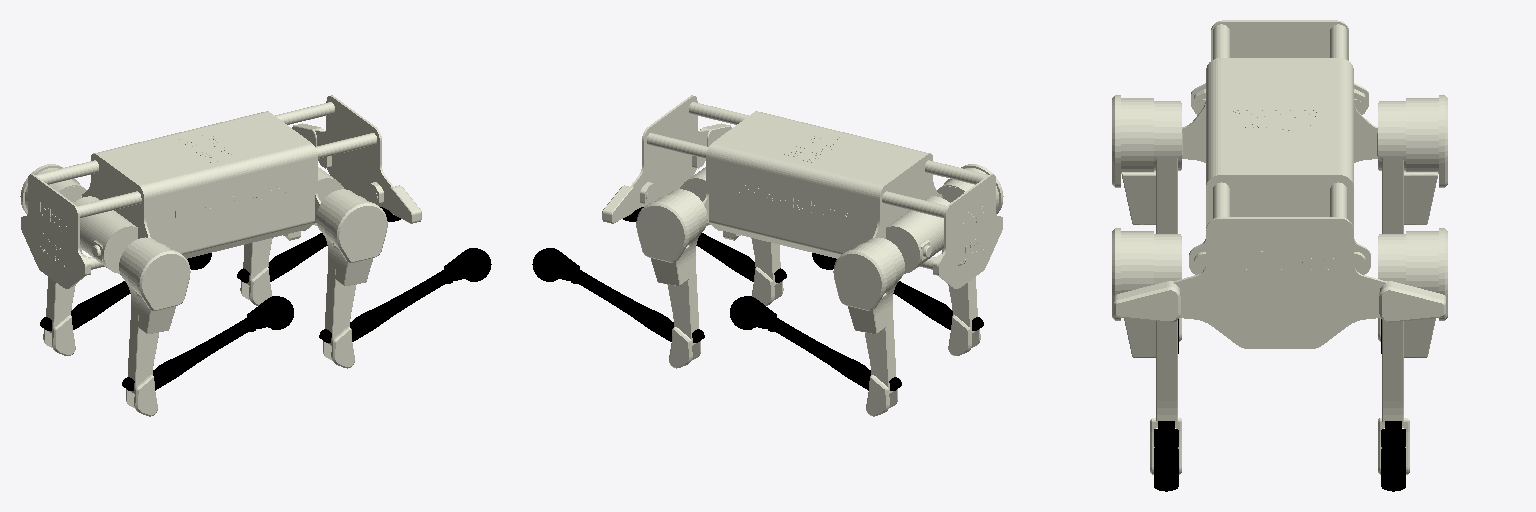
--- What the picture shows (computed from the rendered views, not written in the file) ---
The picture shows the robot from 3 angles, left to right: view 1: azimuth 30°, elevation 25°; view 2: azimuth 150°, elevation 25°; view 3: azimuth 270°, elevation 25°; orthographic projection.
Robot: a1_description — 19 links, 18 joints (8 revolute, 4 continuous, 5 fixed, 1 floating); root link world; default pose: all joints at 0 but 4 set to mid-range because 0 is outside their limits (FR_calf_joint = -1.81, FL_calf_joint = -1.81, RR_calf_joint = -1.81, RL_calf_joint = -1.81).
Visible links, largest first — view 1: trunk, FR_thigh, RR_thigh, RR_calf, FR_calf, RL_thigh, RR_hip, FL_thigh, RL_calf, FL_calf; view 2: trunk, FL_thigh, RL_thigh, RL_calf, FL_calf, RR_thigh, RL_hip, FR_thigh, RR_calf, FR_calf; view 3: trunk, RR_thigh, RL_thigh, FR_thigh, FL_thigh, FR_calf, FL_calf.
Link boxes in pixels (left/top/right/bottom): trunk: left=21, top=95, right=421, bottom=288; FR_thigh: left=316, top=189, right=387, bottom=368; RR_thigh: left=119, top=237, right=190, bottom=416; RR_calf: left=122, top=296, right=293, bottom=390; FR_calf: left=319, top=248, right=491, bottom=342; RL_thigh: left=20, top=164, right=86, bottom=355; RR_hip: left=80, top=210, right=137, bottom=273; FL_thigh: left=240, top=116, right=272, bottom=305; RL_calf: left=40, top=253, right=211, bottom=330; FL_calf: left=237, top=207, right=400, bottom=282; trunk: left=602, top=95, right=1002, bottom=288; FL_thigh: left=636, top=189, right=707, bottom=368; RL_thigh: left=833, top=237, right=904, bottom=416; RL_calf: left=730, top=296, right=901, bottom=390; FL_calf: left=532, top=248, right=704, bottom=342; RR_thigh: left=937, top=164, right=1003, bottom=355; RL_hip: left=886, top=210, right=943, bottom=273; FR_thigh: left=751, top=116, right=783, bottom=305; RR_calf: left=812, top=253, right=983, bottom=330; FR_calf: left=623, top=207, right=786, bottom=282; trunk: left=1114, top=20, right=1445, bottom=348; RR_thigh: left=1112, top=95, right=1181, bottom=341; RL_thigh: left=1378, top=95, right=1447, bottom=341; FR_thigh: left=1112, top=228, right=1181, bottom=474; FL_thigh: left=1378, top=228, right=1447, bottom=474; FR_calf: left=1154, top=421, right=1178, bottom=491; FL_calf: left=1381, top=421, right=1405, bottom=491.
Size in the robot's own frame: 0.7341 by 0.3891 by 0.3728 metres.
13 mesh visuals loaded from 5 distinct referenced files (5 binary STL).

robot.urdf — a1_description:
<?xml version="1.0" ?>
<!-- =================================================================================== -->
<!-- |    This document was autogenerated by xacro from robot.xacro                    | -->
<!-- |    EDITING THIS FILE BY HAND IS NOT RECOMMENDED                                 | -->
<!-- =================================================================================== -->
<robot name="a1_description" xmlns:xacro="http://www.ros.org/wiki/xacro">

  <mujoco>
        <compiler 
        meshdir="../meshes/" 
        balanceinertia="true" 
        discardvisual="false" />
        <option gravity='0 0 -9.8'/>
  </mujoco>

  <material name="black">
    <color rgba="0.0 0.0 0.0 1.0"/>
  </material>
  <material name="blue">
    <color rgba="0.0 0.0 0.8 1.0"/>
  </material>
  <material name="green">
    <color rgba="0.0 0.8 0.0 1.0"/>
  </material>
  <material name="grey">
    <color rgba="0.2 0.2 0.2 1.0"/>
  </material>
  <material name="silver">
    <color rgba="0.913725490196 0.913725490196 0.847058823529 1.0"/>
  </material>
  <material name="orange">
    <color rgba="1.0 0.423529411765 0.0392156862745 1.0"/>
  </material>
  <material name="brown">
    <color rgba="0.870588235294 0.811764705882 0.764705882353 1.0"/>
  </material>
  <material name="red">
    <color rgba="0.8 0.0 0.0 1.0"/>
  </material>
  <material name="white">
    <color rgba="1.0 1.0 1.0 1.0"/>
  </material>
  <!-- <xacro:include filename="$(find aliengo_gazebo)/launch/gazebo.xacro"/> -->
  <!-- Debug mode will hung up the robot, use "true" or "false" to switch it. -->
  <!-- <xacro:if value="$(arg DEBUG)">
        <link name="world"/>
        <joint name="base_static_joint" type="fixed">
            <origin rpy="0 0 0" xyz="0 0 0"/>
            <parent link="world"/>
            <child link="base"/>
        </joint>
    </xacro:if>  -->
<link name="world"/>
  <joint name="floating_base" type="floating">
    <origin rpy="0 0 0" xyz="0 0 0"/>
    <parent link="world"/>
    <child link="trunk"/>
  </joint>
  <link name="trunk">
    <visual>
      <origin rpy="0 0 0" xyz="0 0 0"/>
      <geometry>
        <mesh filename="../meshes/trunk.stl" scale="1 1 1"/>
      </geometry>
      <material name="silver"/>
    </visual>
    <collision>
      <origin rpy="0 0 0" xyz="0 0 0"/>
      <geometry>
        <box size="0.267 0.194 0.114"/>
      </geometry>
    </collision>
 <!-- <collision>
            <origin rpy="0 0 0" xyz="0 0 0"/>
            <geometry>
                <mesh filename="../meshes/trunk.stl" scale="1 1 1"/>
            </geometry>
        </collision> -->
    <inertial>
      <origin rpy="0 0 0" xyz="0.012731 0.002186 0.000515"/>
      <mass value="4.713"/>
      <inertia ixx="0.01683993" ixy="8.3902e-05" ixz="0.000597679" iyy="0.056579028" iyz="2.5134e-05" izz="0.064713601"/>
    </inertial>
  </link>
  <joint name="imu_joint" type="fixed">
    <parent link="trunk"/>
    <child link="imu_link"/>
    <origin rpy="0 0 0" xyz="0 0 0"/>
  </joint>
  <link name="imu_link">
    <inertial>
      <mass value="0.001"/>
      <origin rpy="0 0 0" xyz="0 0 0"/>
      <inertia ixx="0.0001" ixy="0" ixz="0" iyy="0.000001" iyz="0" izz="0.0001"/>
    </inertial>
    <visual>
      <origin rpy="0 0 0" xyz="0 0 0"/>
      <geometry>
        <box size="0.001 0.001 0.001"/>
      </geometry>
      <material name="red"/>
    </visual>
    <collision>
      <origin rpy="0 0 0" xyz="0 0 0"/>
      <geometry>
        <box size=".001 .001 .001"/>
      </geometry>
    </collision>
  </link>
  <joint name="FR_hip_joint" type="revolute">
    <origin rpy="0 0 0" xyz="0.183 -0.047 0"/>
    <parent link="trunk"/>
    <child link="FR_hip"/>
    <axis xyz="1 0 0"/>
    <dynamics damping="0" friction="0"/>
    <limit effort="20" lower="-0.802851455917" upper="0.802851455917" velocity="52.4"/>
  </joint>
  <link name="FR_hip">
    <visual>
      <origin rpy="3.14159265359 0 0" xyz="0 0 0"/>
      <geometry>
        <mesh filename="../meshes/hip.stl" scale="1 1 1"/>
      </geometry>
      <material name="silver"/>
    </visual>
    <collision>
      <origin rpy="1.57079632679 0 0" xyz="0 -0.055 0"/>
      <geometry>
        <cylinder length="0.08" radius="0.04"/>
      </geometry>
    </collision>
    <inertial>
      <origin rpy="0 0 0" xyz="-0.003311 -0.000635 3.1e-05"/>
      <mass value="0.696"/>
      <inertia ixx="0.000469246" ixy="9.409e-06" ixz="-3.42e-07" iyy="0.00080749" iyz="4.66e-07" izz="0.000552929"/>
    </inertial>
  </link>
<!--  <joint name="${name}_hip_fixed" type="fixed">
    <origin rpy="0 0 0" xyz="0 ${(thigh_shoulder_length/2.0+hip_offset)*mirror} 0"/>
    <parent link="${name}_hip"/>
    <child link="${name}_thigh_shoulder"/>
  </joint> -->
  <!-- this link is only for collision -->
 <!-- <link name="${name}_thigh_shoulder">
    <collision>
      <origin rpy="${PI/2.0} 0 0" xyz="0 0 0"/>
      <geometry>
        <cylinder length="${thigh_shoulder_length}" radius="${thigh_shoulder_radius}"/>
      </geometry>
    </collision>
  </link> -->
  <joint name="FR_thigh_joint" type="continuous">
    <origin rpy="0 0 0" xyz="0 -0.08505 0"/>
    <parent link="FR_hip"/>
    <child link="FR_thigh"/>
    <axis xyz="0 1 0"/>
    <dynamics damping="0" friction="0"/>
    <limit effort="55" lower="-1.0471975512" upper="4.18879020479" velocity="28.6"/>
  </joint>
  <link name="FR_thigh">
    <visual>
      <origin rpy="0 0 0" xyz="0 0 0"/>
      <geometry>
        <mesh filename="../meshes/thigh_mirror.stl" scale="1 1 1"/>
      </geometry>
      <material name="silver"/>
    </visual>
    <collision>
      <origin rpy="0 1.57079632679 0" xyz="0 0 -0.1"/>
      <geometry>
        <box size="0.2 0.0245 0.034"/>
      </geometry>
    </collision>
    <inertial>
      <origin rpy="0 0 0" xyz="-0.003237 0.022327 -0.027326"/>
      <mass value="1.013"/>
      <inertia ixx="0.005529065" ixy="-4.825e-06" ixz="0.000343869" iyy="0.005139339" iyz="-2.2448e-05" izz="0.001367788"/>
    </inertial>
  </link>
  <joint name="FR_calf_joint" type="revolute">
    <origin rpy="0 0 0" xyz="0 0 -0.2"/>
    <parent link="FR_thigh"/>
    <child link="FR_calf"/>
    <axis xyz="0 1 0"/>
    <dynamics damping="0" friction="0"/>
    <limit effort="55" lower="-2.69653369433" upper="-0.916297857297" velocity="28.6"/>
  </joint>
  <link name="FR_calf">
    <visual>
      <origin rpy="0 0 0" xyz="0 0 0"/>
      <geometry>
        <mesh filename="../meshes/calf.stl" scale="1 1 1"/>
      </geometry>
      <material name="black"/>
    </visual>
    <collision>
      <origin rpy="0 1.57079632679 0" xyz="0 0 -0.1"/>
      <geometry>
        <box size="0.2 0.016 0.016"/>
      </geometry>
    </collision>
    <inertial>
      <origin rpy="0 0 0" xyz="0.006435 0.0 -0.107388"/>
      <mass value="0.166"/>
      <inertia ixx="0.002997972" ixy="0.0" ixz="-0.000141163" iyy="0.003014022" iyz="0.0" izz="3.2426e-05"/>
    </inertial>
  </link>
  <joint name="FR_foot_fixed" type="fixed">
    <origin rpy="0 0 0" xyz="0 0 -0.2"/>
    <parent link="FR_calf"/>
    <child link="FR_foot"/>
  </joint>
  <link name="FR_foot">
    <visual>
      <origin rpy="0 0 0" xyz="0 0 0"/>
      <geometry>
        <sphere radius="0.01"/>
      </geometry>
      <material name="black"/>
    </visual>
    <collision>
      <origin rpy="0 0 0" xyz="0 0 0"/>
      <geometry>
        <sphere radius="0.02"/>
      </geometry>
    </collision>
    <inertial>
      <mass value="0.06"/>
      <inertia ixx="9.6e-06" ixy="0.0" ixz="0.0" iyy="9.6e-06" iyz="0.0" izz="9.6e-06"/>
    </inertial>
  </link>
  <transmission name="FR_hip_tran">
    <type>transmission_interface/SimpleTransmission</type>
    <joint name="FR_hip_joint">
      <hardwareInterface>hardware_interface/EffortJointInterface</hardwareInterface>
    </joint>
    <actuator name="FR_hip_motor">
      <hardwareInterface>hardware_interface/EffortJointInterface</hardwareInterface>
      <mechanicalReduction>1</mechanicalReduction>
    </actuator>
  </transmission>
  <transmission name="FR_thigh_tran">
    <type>transmission_interface/SimpleTransmission</type>
    <joint name="FR_thigh_joint">
      <hardwareInterface>hardware_interface/EffortJointInterface</hardwareInterface>
    </joint>
    <actuator name="FR_thigh_motor">
      <hardwareInterface>hardware_interface/EffortJointInterface</hardwareInterface>
      <mechanicalReduction>1</mechanicalReduction>
    </actuator>
  </transmission>
  <transmission name="FR_calf_tran">
    <type>transmission_interface/SimpleTransmission</type>
    <joint name="FR_calf_joint">
      <hardwareInterface>hardware_interface/EffortJointInterface</hardwareInterface>
    </joint>
    <actuator name="FR_calf_motor">
      <hardwareInterface>hardware_interface/EffortJointInterface</hardwareInterface>
      <mechanicalReduction>1</mechanicalReduction>
    </actuator>
  </transmission>
  <joint name="FL_hip_joint" type="revolute">
    <origin rpy="0 0 0" xyz="0.183 0.047 0"/>
    <parent link="trunk"/>
    <child link="FL_hip"/>
    <axis xyz="1 0 0"/>
    <dynamics damping="0" friction="0"/>
    <limit effort="20" lower="-0.802851455917" upper="0.802851455917" velocity="52.4"/>
  </joint>
  <link name="FL_hip">
    <visual>
      <origin rpy="0 0 0" xyz="0 0 0"/>
      <geometry>
        <mesh filename="../meshes/hip.stl" scale="1 1 1"/>
      </geometry>
      <material name="silver"/>
    </visual>
    <collision>
      <origin rpy="1.57079632679 0 0" xyz="0 0.055 0"/>
      <geometry>
        <cylinder length="0.08" radius="0.04"/>
      </geometry>
    </collision>
    <inertial>
      <origin rpy="0 0 0" xyz="-0.003311 0.000635 3.1e-05"/>
      <mass value="0.696"/>
      <inertia ixx="0.000469246" ixy="-9.409e-06" ixz="-3.42e-07" iyy="0.00080749" iyz="-4.66e-07" izz="0.000552929"/>
    </inertial>
  </link>
<!--  <joint name="${name}_hip_fixed" type="fixed">
    <origin rpy="0 0 0" xyz="0 ${(thigh_shoulder_length/2.0+hip_offset)*mirror} 0"/>
    <parent link="${name}_hip"/>
    <child link="${name}_thigh_shoulder"/>
  </joint> -->
  <!-- this link is only for collision -->
 <!-- <link name="${name}_thigh_shoulder">
    <collision>
      <origin rpy="1.57079632679 0 0" xyz="0 0 0"/>
      <geometry>
        <cylinder length="${thigh_shoulder_length}" radius="${thigh_shoulder_radius}"/>
      </geometry>
    </collision>
  </link> -->
  <joint name="FL_thigh_joint" type="continuous">
    <origin rpy="0 0 0" xyz="0 0.08505 0"/>
    <parent link="FL_hip"/>
    <child link="FL_thigh"/>
    <axis xyz="0 1 0"/>
    <dynamics damping="0" friction="0"/>
    <limit effort="55" lower="-1.0471975512" upper="4.18879020479" velocity="28.6"/>
  </joint>
  <link name="FL_thigh">
    <visual>
      <origin rpy="0 0 0" xyz="0 0 0"/>
      <geometry>
        <mesh filename="../meshes/thigh.stl" scale="1 1 1"/>
      </geometry>
      <material name="silver"/>
    </visual>
    <collision>
      <origin rpy="0 1.57079632679 0" xyz="0 0 -0.1"/>
      <geometry>
        <box size="0.2 0.0245 0.034"/>
      </geometry>
    </collision>
    <inertial>
      <origin rpy="0 0 0" xyz="-0.003237 -0.022327 -0.027326"/>
      <mass value="1.013"/>
      <inertia ixx="0.005529065" ixy="4.825e-06" ixz="0.000343869" iyy="0.005139339" iyz="2.2448e-05" izz="0.001367788"/>
    </inertial>
  </link>
  <joint name="FL_calf_joint" type="revolute">
    <origin rpy="0 0 0" xyz="0 0 -0.2"/>
    <parent link="FL_thigh"/>
    <child link="FL_calf"/>
    <axis xyz="0 1 0"/>
    <dynamics damping="0" friction="0"/>
    <limit effort="55" lower="-2.69653369433" upper="-0.916297857297" velocity="28.6"/>
  </joint>
  <link name="FL_calf">
    <visual>
      <origin rpy="0 0 0" xyz="0 0 0"/>
      <geometry>
        <mesh filename="../meshes/calf.stl" scale="1 1 1"/>
      </geometry>
      <material name="black"/>
    </visual>
    <collision>
      <origin rpy="0 1.57079632679 0" xyz="0 0 -0.1"/>
      <geometry>
        <box size="0.2 0.016 0.016"/>
      </geometry>
    </collision>
    <inertial>
      <origin rpy="0 0 0" xyz="0.006435 0.0 -0.107388"/>
      <mass value="0.166"/>
      <inertia ixx="0.002997972" ixy="0.0" ixz="-0.000141163" iyy="0.003014022" iyz="0.0" izz="3.2426e-05"/>
    </inertial>
  </link>
  <joint name="FL_foot_fixed" type="fixed">
    <origin rpy="0 0 0" xyz="0 0 -0.2"/>
    <parent link="FL_calf"/>
    <child link="FL_foot"/>
  </joint>
  <link name="FL_foot">
    <visual>
      <origin rpy="0 0 0" xyz="0 0 0"/>
      <geometry>
        <sphere radius="0.01"/>
      </geometry>
      <material name="black"/>
    </visual>
    <collision>
      <origin rpy="0 0 0" xyz="0 0 0"/>
      <geometry>
        <sphere radius="0.02"/>
      </geometry>
    </collision>
    <inertial>
      <mass value="0.06"/>
      <inertia ixx="9.6e-06" ixy="0.0" ixz="0.0" iyy="9.6e-06" iyz="0.0" izz="9.6e-06"/>
    </inertial>
  </link>
  <transmission name="FL_hip_tran">
    <type>transmission_interface/SimpleTransmission</type>
    <joint name="FL_hip_joint">
      <hardwareInterface>hardware_interface/EffortJointInterface</hardwareInterface>
    </joint>
    <actuator name="FL_hip_motor">
      <hardwareInterface>hardware_interface/EffortJointInterface</hardwareInterface>
      <mechanicalReduction>1</mechanicalReduction>
    </actuator>
  </transmission>
  <transmission name="FL_thigh_tran">
    <type>transmission_interface/SimpleTransmission</type>
    <joint name="FL_thigh_joint">
      <hardwareInterface>hardware_interface/EffortJointInterface</hardwareInterface>
    </joint>
    <actuator name="FL_thigh_motor">
      <hardwareInterface>hardware_interface/EffortJointInterface</hardwareInterface>
      <mechanicalReduction>1</mechanicalReduction>
    </actuator>
  </transmission>
  <transmission name="FL_calf_tran">
    <type>transmission_interface/SimpleTransmission</type>
    <joint name="FL_calf_joint">
      <hardwareInterface>hardware_interface/EffortJointInterface</hardwareInterface>
    </joint>
    <actuator name="FL_calf_motor">
      <hardwareInterface>hardware_interface/EffortJointInterface</hardwareInterface>
      <mechanicalReduction>1</mechanicalReduction>
    </actuator>
  </transmission>
  <joint name="RR_hip_joint" type="revolute">
    <origin rpy="0 0 0" xyz="-0.183 -0.047 0"/>
    <parent link="trunk"/>
    <child link="RR_hip"/>
    <axis xyz="1 0 0"/>
    <dynamics damping="0" friction="0"/>
    <limit effort="20" lower="-0.802851455917" upper="0.802851455917" velocity="52.4"/>
  </joint>
  <link name="RR_hip">
    <visual>
      <origin rpy="3.14159265359 3.14159265359 0" xyz="0 0 0"/>
      <geometry>
        <mesh filename="../meshes/hip.stl" scale="1 1 1"/>
      </geometry>
      <material name="silver"/>
    </visual>
    <collision>
      <origin rpy="1.57079632679 0 0" xyz="0 -0.055 0"/>
      <geometry>
        <cylinder length="0.08" radius="0.04"/>
      </geometry>
    </collision>
    <inertial>
      <origin rpy="0 0 0" xyz="0.003311 -0.000635 3.1e-05"/>
      <mass value="0.696"/>
      <inertia ixx="0.000469246" ixy="-9.409e-06" ixz="3.42e-07" iyy="0.00080749" iyz="4.66e-07" izz="0.000552929"/>
    </inertial>
  </link>
 <!-- <joint name="${name}_hip_fixed" type="fixed">
    <origin rpy="0 0 0" xyz="0 ${(thigh_shoulder_length/2.0+hip_offset)*mirror} 0"/>
    <parent link="${name}_hip"/>
    <child link="${name}_thigh_shoulder"/>
  </joint> -->
  <!-- this link is only for collision -->
<!--  <link name="${name}_thigh_shoulder">
    <collision>
      <origin rpy="1.57079632679 0 0" xyz="0 0 0"/>
      <geometry>
        <cylinder length="${thigh_shoulder_length}" radius="${thigh_shoulder_radius}"/>
      </geometry>
    </collision>
  </link> -->
  <joint name="RR_thigh_joint" type="continuous">
    <origin rpy="0 0 0" xyz="0 -0.08505 0"/>
    <parent link="RR_hip"/>
    <child link="RR_thigh"/>
    <axis xyz="0 1 0"/>
    <dynamics damping="0" friction="0"/>
    <limit effort="55" lower="-1.0471975512" upper="4.18879020479" velocity="28.6"/>
  </joint>
  <link name="RR_thigh">
    <visual>
      <origin rpy="0 0 0" xyz="0 0 0"/>
      <geometry>
        <mesh filename="../meshes/thigh_mirror.stl" scale="1 1 1"/>
      </geometry>
      <material name="silver"/>
    </visual>
    <collision>
      <origin rpy="0 1.57079632679 0" xyz="0 0 -0.1"/>
      <geometry>
        <box size="0.2 0.0245 0.034"/>
      </geometry>
    </collision>
    <inertial>
      <origin rpy="0 0 0" xyz="-0.003237 0.022327 -0.027326"/>
      <mass value="1.013"/>
      <inertia ixx="0.005529065" ixy="-4.825e-06" ixz="0.000343869" iyy="0.005139339" iyz="-2.2448e-05" izz="0.001367788"/>
    </inertial>
  </link>
  <joint name="RR_calf_joint" type="revolute">
    <origin rpy="0 0 0" xyz="0 0 -0.2"/>
    <parent link="RR_thigh"/>
    <child link="RR_calf"/>
    <axis xyz="0 1 0"/>
    <dynamics damping="0" friction="0"/>
    <limit effort="55" lower="-2.69653369433" upper="-0.916297857297" velocity="28.6"/>
  </joint>
  <link name="RR_calf">
    <visual>
      <origin rpy="0 0 0" xyz="0 0 0"/>
      <geometry>
        <mesh filename="../meshes/calf.stl" scale="1 1 1"/>
      </geometry>
      <material name="black"/>
    </visual>
    <collision>
      <origin rpy="0 1.57079632679 0" xyz="0 0 -0.1"/>
      <geometry>
        <box size="0.2 0.016 0.016"/>
      </geometry>
    </collision>
    <inertial>
      <origin rpy="0 0 0" xyz="0.006435 0.0 -0.107388"/>
      <mass value="0.166"/>
      <inertia ixx="0.002997972" ixy="0.0" ixz="-0.000141163" iyy="0.003014022" iyz="0.0" izz="3.2426e-05"/>
    </inertial>
  </link>
  <joint name="RR_foot_fixed" type="fixed">
    <origin rpy="0 0 0" xyz="0 0 -0.2"/>
    <parent link="RR_calf"/>
    <child link="RR_foot"/>
  </joint>
  <link name="RR_foot">
    <visual>
      <origin rpy="0 0 0" xyz="0 0 0"/>
      <geometry>
        <sphere radius="0.01"/>
      </geometry>
      <material name="black"/>
    </visual>
    <collision>
      <origin rpy="0 0 0" xyz="0 0 0"/>
      <geometry>
        <sphere radius="0.02"/>
      </geometry>
    </collision>
    <inertial>
      <mass value="0.06"/>
      <inertia ixx="9.6e-06" ixy="0.0" ixz="0.0" iyy="9.6e-06" iyz="0.0" izz="9.6e-06"/>
    </inertial>
  </link>
  <transmission name="RR_hip_tran">
    <type>transmission_interface/SimpleTransmission</type>
    <joint name="RR_hip_joint">
      <hardwareInterface>hardware_interface/EffortJointInterface</hardwareInterface>
    </joint>
    <actuator name="RR_hip_motor">
      <hardwareInterface>hardware_interface/EffortJointInterface</hardwareInterface>
      <mechanicalReduction>1</mechanicalReduction>
    </actuator>
  </transmission>
  <transmission name="RR_thigh_tran">
    <type>transmission_interface/SimpleTransmission</type>
    <joint name="RR_thigh_joint">
      <hardwareInterface>hardware_interface/EffortJointInterface</hardwareInterface>
    </joint>
    <actuator name="RR_thigh_motor">
      <hardwareInterface>hardware_interface/EffortJointInterface</hardwareInterface>
      <mechanicalReduction>1</mechanicalReduction>
    </actuator>
  </transmission>
  <transmission name="RR_calf_tran">
    <type>transmission_interface/SimpleTransmission</type>
    <joint name="RR_calf_joint">
      <hardwareInterface>hardware_interface/EffortJointInterface</hardwareInterface>
    </joint>
    <actuator name="RR_calf_motor">
      <hardwareInterface>hardware_interface/EffortJointInterface</hardwareInterface>
      <mechanicalReduction>1</mechanicalReduction>
    </actuator>
  </transmission>
  <joint name="RL_hip_joint" type="revolute">
    <origin rpy="0 0 0" xyz="-0.183 0.047 0"/>
    <parent link="trunk"/>
    <child link="RL_hip"/>
    <axis xyz="1 0 0"/>
    <dynamics damping="0" friction="0"/>
    <limit effort="20" lower="-0.802851455917" upper="0.802851455917" velocity="52.4"/>
  </joint>
  <link name="RL_hip">
    <visual>
      <origin rpy="0 3.14159265359 0" xyz="0 0 0"/>
      <geometry>
        <mesh filename="../meshes/hip.stl" scale="1 1 1"/>
      </geometry>
      <material name="silver"/>
    </visual>
    <collision>
      <origin rpy="1.57079632679 0 0" xyz="0 0.055 0"/>
      <geometry>
        <cylinder length="0.08" radius="0.04"/>
      </geometry>
    </collision>
    <inertial>
      <origin rpy="0 0 0" xyz="0.003311 0.000635 3.1e-05"/>
      <mass value="0.696"/>
      <inertia ixx="0.000469246" ixy="9.409e-06" ixz="3.42e-07" iyy="0.00080749" iyz="-4.66e-07" izz="0.000552929"/>
    </inertial>
  </link>
 <!-- <joint name="${name}_hip_fixed" type="fixed">
    <origin rpy="0 0 0" xyz="0 ${(thigh_shoulder_length/2.0+hip_offset)*mirror} 0"/>
    <parent link="${name}_hip"/>
    <child link="${name}_thigh_shoulder"/>
  </joint> -->
  <!-- this link is only for collision -->
 <!-- <link name="${name}_thigh_shoulder">
    <collision>
      <origin rpy="1.57079632679 0 0" xyz="0 0 0"/>
      <geometry>
        <cylinder length="${thigh_shoulder_length}" radius="${thigh_shoulder_radius}"/>
      </geometry>
    </collision>
  </link> -->
  <joint name="RL_thigh_joint" type="continuous">
    <origin rpy="0 0 0" xyz="0 0.08505 0"/>
    <parent link="RL_hip"/>
    <child link="RL_thigh"/>
    <axis xyz="0 1 0"/>
    <dynamics damping="0" friction="0"/>
    <limit effort="55" lower="-1.0471975512" upper="4.18879020479" velocity="28.6"/>
  </joint>
  <link name="RL_thigh">
    <visual>
      <origin rpy="0 0 0" xyz="0 0 0"/>
      <geometry>
        <mesh filename="../meshes/thigh.stl" scale="1 1 1"/>
      </geometry>
      <material name="silver"/>
    </visual>
    <collision>
      <origin rpy="0 1.57079632679 0" xyz="0 0 -0.1"/>
      <geometry>
        <box size="0.2 0.0245 0.034"/>
      </geometry>
    </collision>
    <inertial>
      <origin rpy="0 0 0" xyz="-0.003237 -0.022327 -0.027326"/>
      <mass value="1.013"/>
      <inertia ixx="0.005529065" ixy="4.825e-06" ixz="0.000343869" iyy="0.005139339" iyz="2.2448e-05" izz="0.001367788"/>
    </inertial>
  </link>
  <joint name="RL_calf_joint" type="revolute">
    <origin rpy="0 0 0" xyz="0 0 -0.2"/>
    <parent link="RL_thigh"/>
    <child link="RL_calf"/>
    <axis xyz="0 1 0"/>
    <dynamics damping="0" friction="0"/>
    <limit effort="55" lower="-2.69653369433" upper="-0.916297857297" velocity="28.6"/>
  </joint>
  <link name="RL_calf">
    <visual>
      <origin rpy="0 0 0" xyz="0 0 0"/>
      <geometry>
        <mesh filename="../meshes/calf.stl" scale="1 1 1"/>
      </geometry>
      <material name="black"/>
    </visual>
    <collision>
      <origin rpy="0 1.57079632679 0" xyz="0 0 -0.1"/>
      <geometry>
        <box size="0.2 0.016 0.016"/>
      </geometry>
    </collision>
    <inertial>
      <origin rpy="0 0 0" xyz="0.006435 0.0 -0.107388"/>
      <mass value="0.166"/>
      <inertia ixx="0.002997972" ixy="0.0" ixz="-0.000141163" iyy="0.003014022" iyz="0.0" izz="3.2426e-05"/>
    </inertial>
  </link>
  <joint name="RL_foot_fixed" type="fixed">
    <origin rpy="0 0 0" xyz="0 0 -0.2"/>
    <parent link="RL_calf"/>
    <child link="RL_foot"/>
  </joint>
  <link name="RL_foot">
    <visual>
      <origin rpy="0 0 0" xyz="0 0 0"/>
      <geometry>
        <sphere radius="0.01"/>
      </geometry>
      <material name="black"/>
    </visual>
    <collision>
      <origin rpy="0 0 0" xyz="0 0 0"/>
      <geometry>
        <sphere radius="0.02"/>
      </geometry>
    </collision>
    <inertial>
      <mass value="0.06"/>
      <inertia ixx="9.6e-06" ixy="0.0" ixz="0.0" iyy="9.6e-06" iyz="0.0" izz="9.6e-06"/>
    </inertial>
  </link>
  <transmission name="RL_hip_tran">
    <type>transmission_interface/SimpleTransmission</type>
    <joint name="RL_hip_joint">
      <hardwareInterface>hardware_interface/EffortJointInterface</hardwareInterface>
    </joint>
    <actuator name="RL_hip_motor">
      <hardwareInterface>hardware_interface/EffortJointInterface</hardwareInterface>
      <mechanicalReduction>1</mechanicalReduction>
    </actuator>
  </transmission>
  <transmission name="RL_thigh_tran">
    <type>transmission_interface/SimpleTransmission</type>
    <joint name="RL_thigh_joint">
      <hardwareInterface>hardware_interface/EffortJointInterface</hardwareInterface>
    </joint>
    <actuator name="RL_thigh_motor">
      <hardwareInterface>hardware_interface/EffortJointInterface</hardwareInterface>
      <mechanicalReduction>1</mechanicalReduction>
    </actuator>
  </transmission>
  <transmission name="RL_calf_tran">
    <type>transmission_interface/SimpleTransmission</type>
    <joint name="RL_calf_joint">
      <hardwareInterface>hardware_interface/EffortJointInterface</hardwareInterface>
    </joint>
    <actuator name="RL_calf_motor">
      <hardwareInterface>hardware_interface/EffortJointInterface</hardwareInterface>
      <mechanicalReduction>1</mechanicalReduction>
    </actuator>
  </transmission>
</robot>
